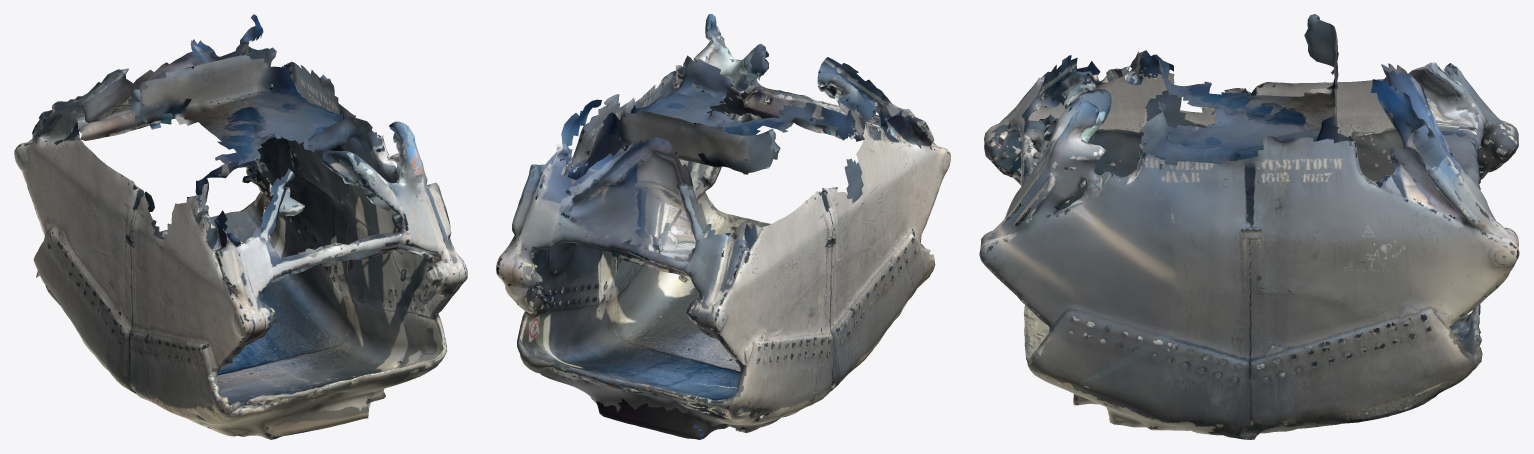
Rendered from S006_CraneShovel.gltf.
The picture shows the model from 3 angles, left to right: view 1: azimuth 30°, elevation 25°; view 2: azimuth 150°, elevation 25°; view 3: azimuth 270°, elevation 25°; orthographic projection. The views are drawn at different scales.
Visible parts, largest first — view 1: S006_CraneShovel_RETOPO.001; view 2: S006_CraneShovel_RETOPO.001; view 3: S006_CraneShovel_RETOPO.001.
Part boxes in pixels (x1,y1,x2,y2): S006_CraneShovel_RETOPO.001: [14, 14, 467, 439]; S006_CraneShovel_RETOPO.001: [496, 14, 950, 439]; S006_CraneShovel_RETOPO.001: [979, 14, 1519, 439].
Size of the model in its own units: 1.67 by 2 by 2.9.
1 material, 1 textured.
